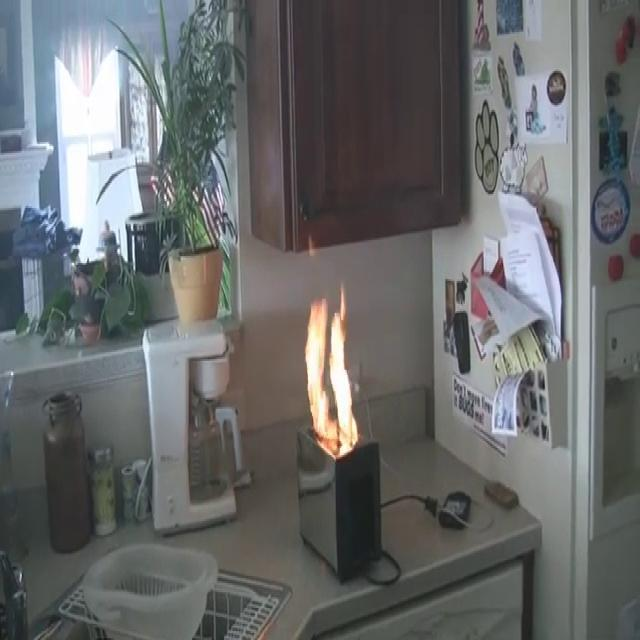fire: (290, 285, 376, 468)
